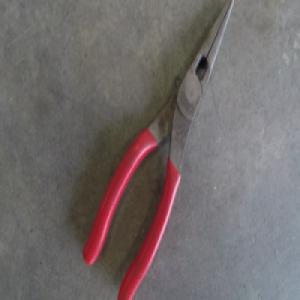Pliers: (82, 11, 231, 295)
